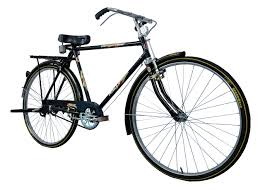Bicycle: (24, 10, 249, 181)
